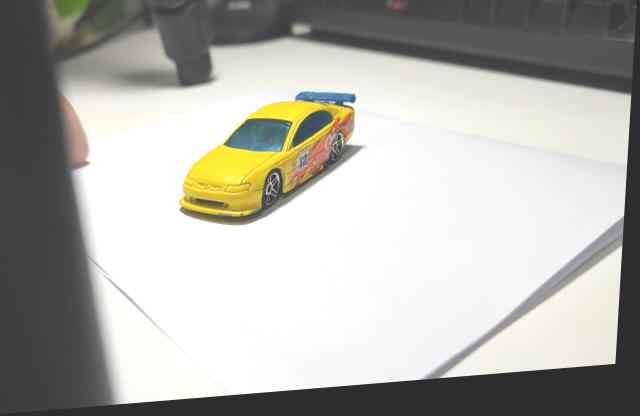02_OZSOME: (181, 98, 358, 232)
